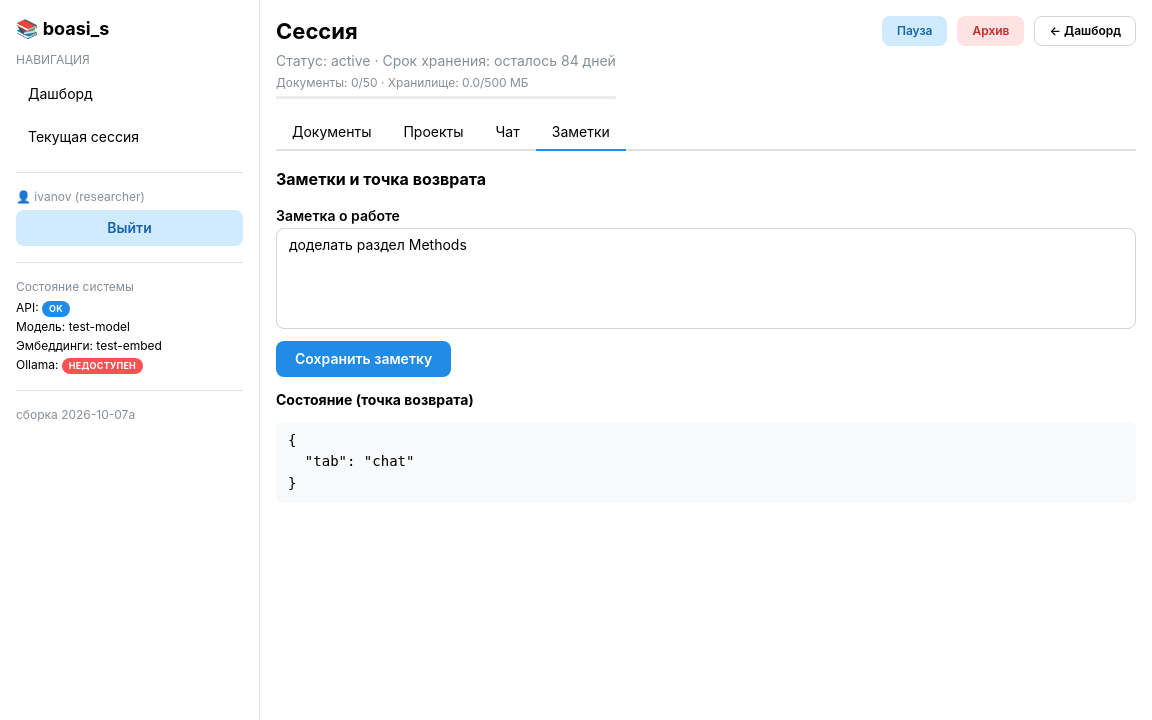
Test: вкладка Заметки › заметка из detail, сохранение шлёт PUT state
Replace the text in the text box labelled "Заметка о работе" with "новая заметка" at (706,278), box [276,228,1136,329]
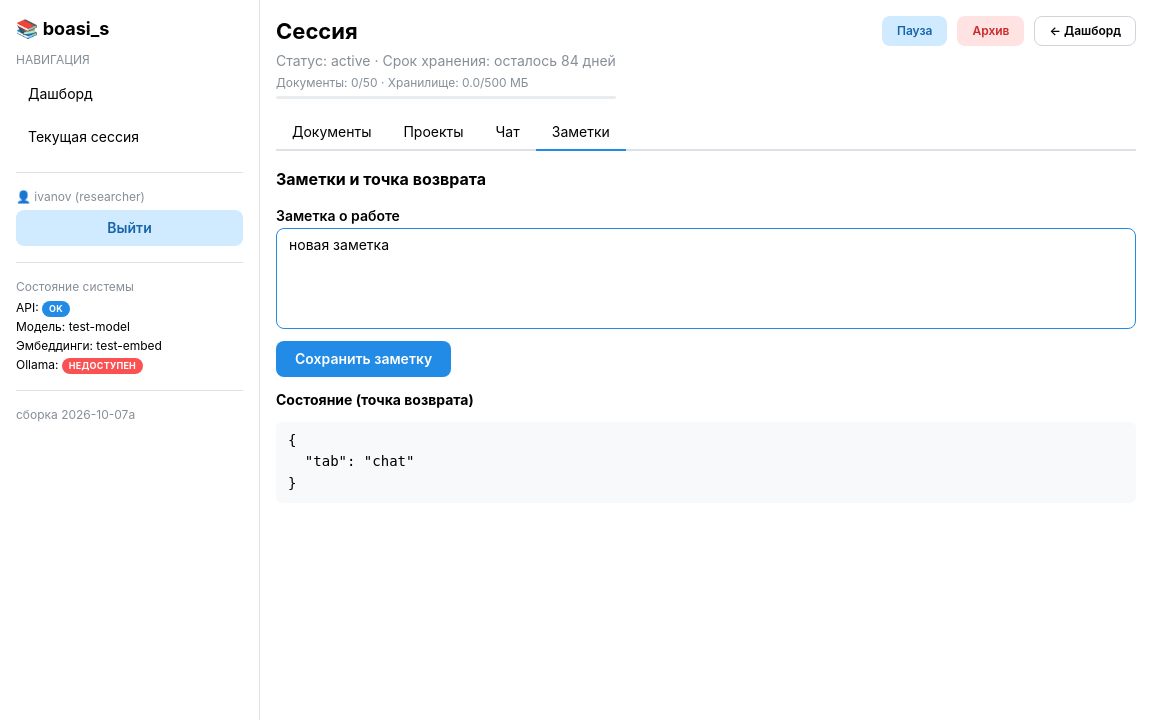
Click the button "Сохранить заметку" at (364,359), box [276,341,451,377]
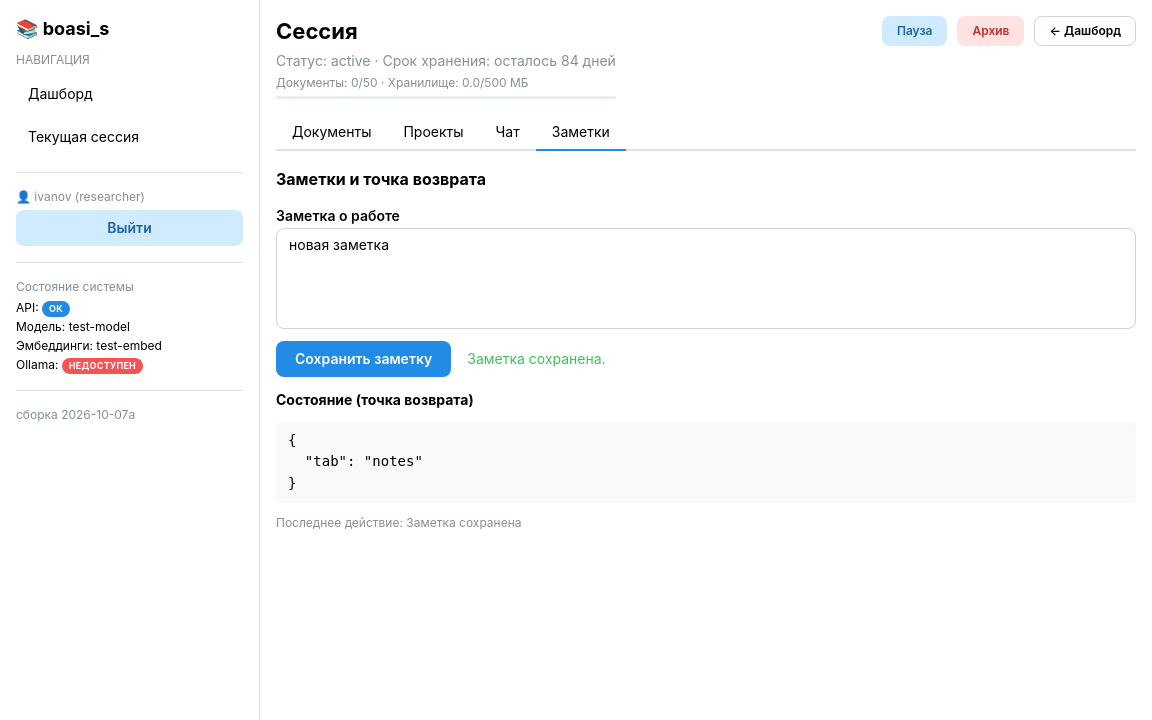
Expected: the text "Заметка сохранена." is shown, [467,348,606,369]
Expected: the text "{ \"tab\": \"notes\" }" is shown, [276,422,1136,503]
